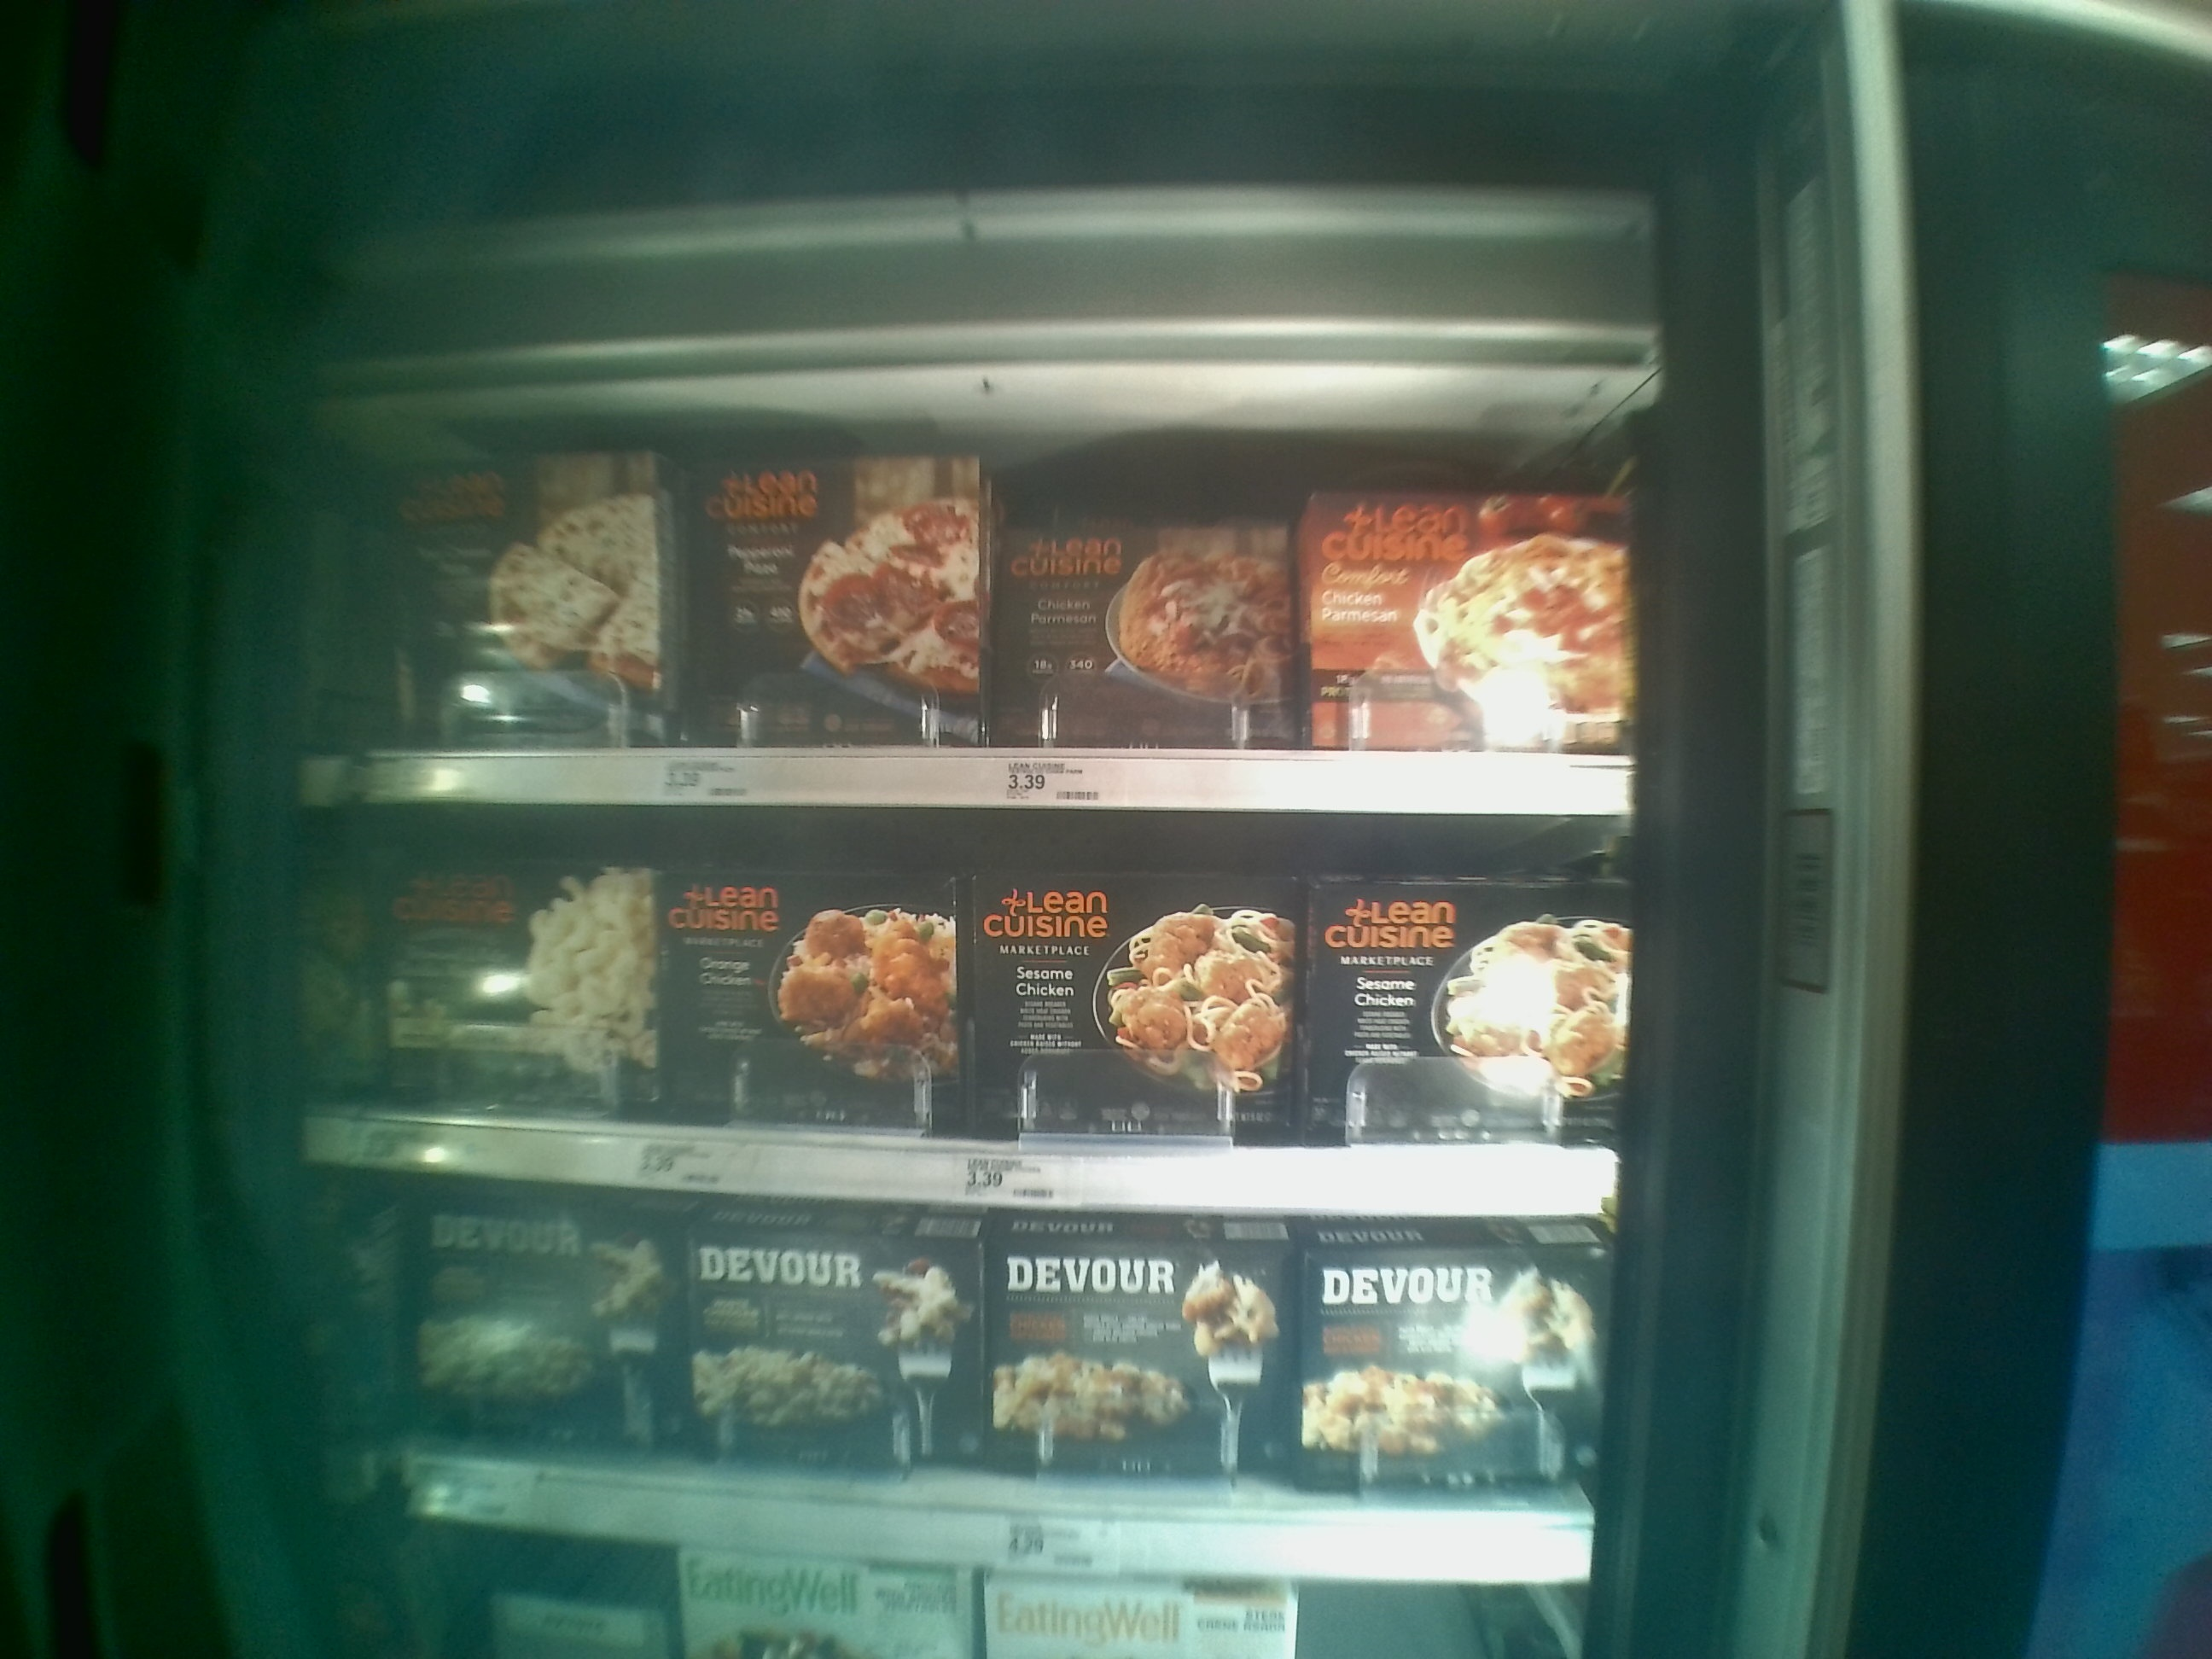shelf: (286, 207, 1641, 803), (303, 807, 1630, 1213)
